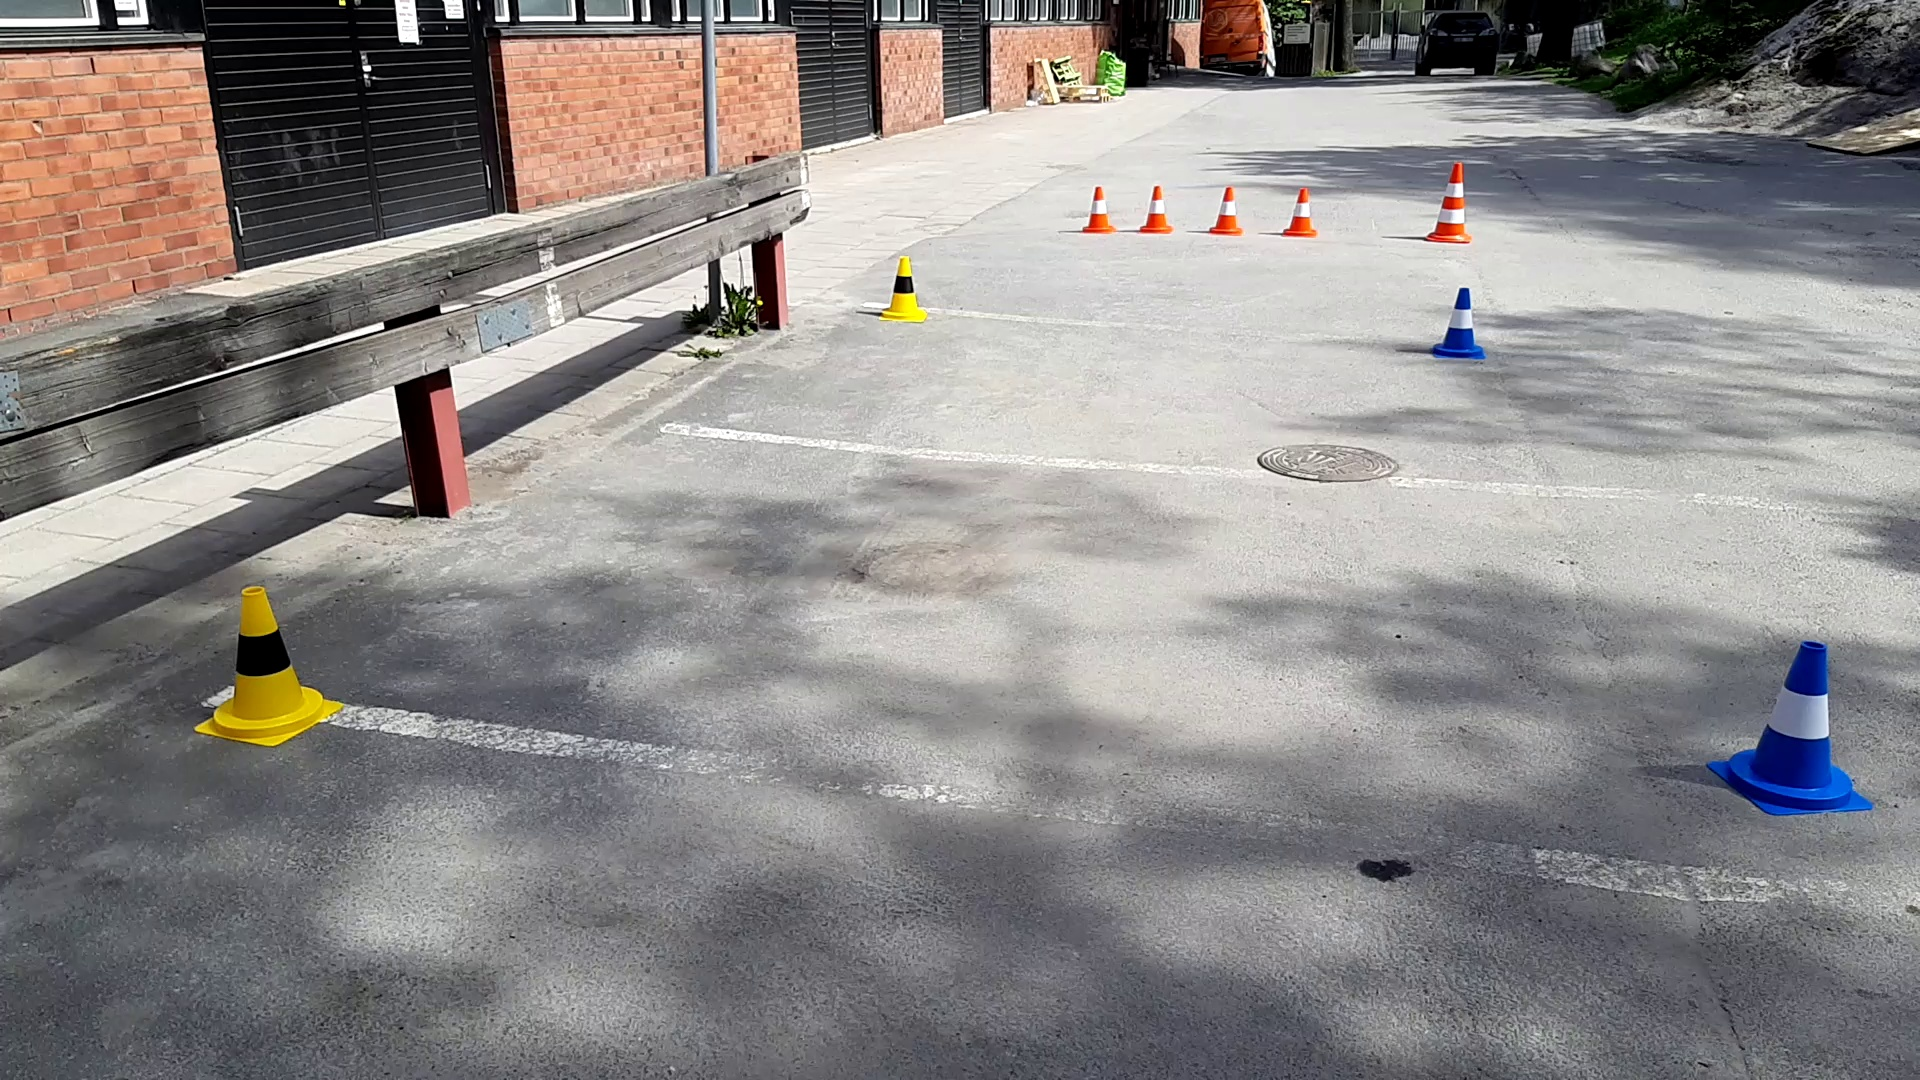Cone: (1716, 638, 1862, 814), (193, 580, 342, 746), (1429, 286, 1489, 359), (1429, 161, 1474, 243), (878, 253, 928, 324), (1280, 185, 1323, 237), (1211, 189, 1249, 236), (1141, 179, 1172, 236), (1081, 182, 1116, 232)
